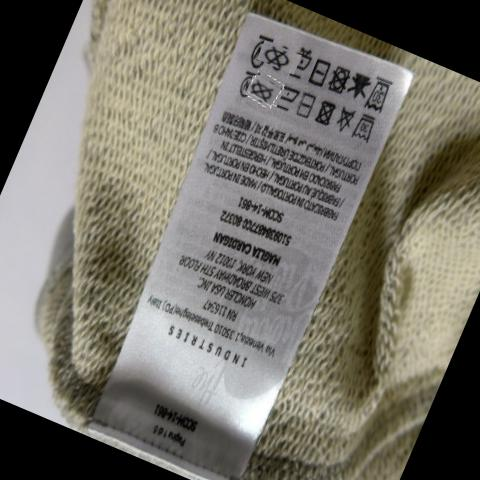30C: (366, 78, 393, 113), (353, 114, 378, 143)
DN_bleach: (349, 72, 372, 101), (335, 107, 357, 133)
DN_dry_clean: (264, 45, 289, 70), (248, 80, 276, 102)
DN_steam: (290, 47, 315, 80)
DN_tumble_dry: (330, 64, 351, 96), (316, 99, 337, 128)
dry_flat: (308, 57, 333, 89), (297, 92, 318, 120)
iron_low: (272, 84, 300, 113)
